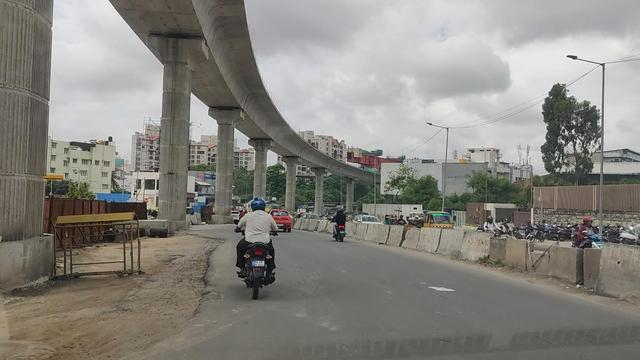LMV: (238, 195, 274, 296), (331, 207, 348, 243)
RoadDamages: (104, 329, 186, 360), (189, 260, 218, 330), (5, 337, 57, 360), (190, 231, 223, 260)
UnsurfacedRoad: (43, 249, 181, 329)
